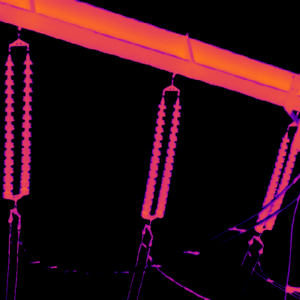insulator: (252, 130, 290, 230), (154, 95, 182, 218), (264, 133, 300, 228), (140, 95, 167, 218), (1, 54, 14, 197), (19, 53, 32, 194)
